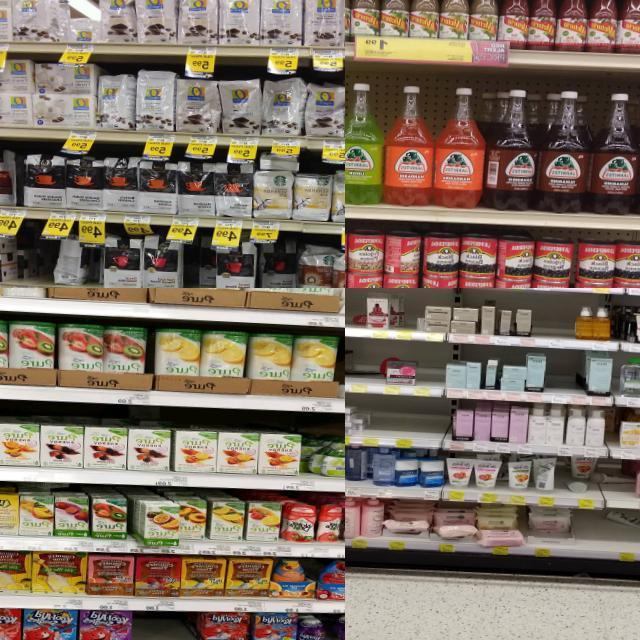empty: (392, 400, 443, 449), (575, 526, 640, 562), (20, 226, 55, 288), (536, 298, 574, 348), (132, 611, 187, 640), (367, 398, 394, 448), (351, 347, 379, 395), (544, 351, 569, 404), (414, 352, 442, 396), (568, 353, 582, 404), (402, 300, 418, 340), (345, 291, 353, 336)
